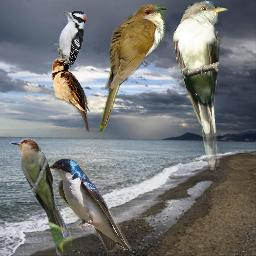Cuckoo: (173, 0, 228, 171), (98, 4, 168, 133), (10, 138, 72, 256)
Swallow: (47, 158, 132, 252), (51, 58, 90, 132)
Woodpecker: (54, 7, 89, 83)
